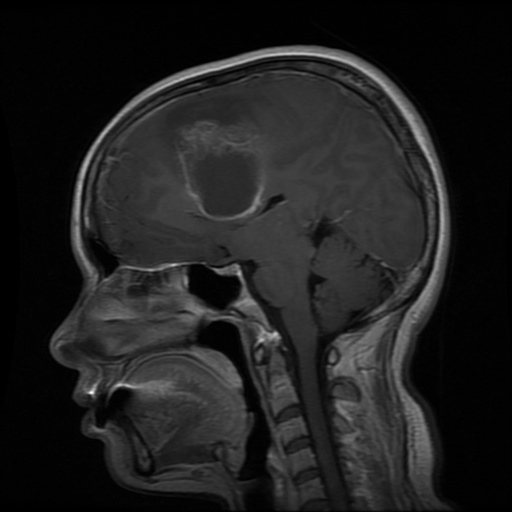glioma: (169, 118, 269, 224)
